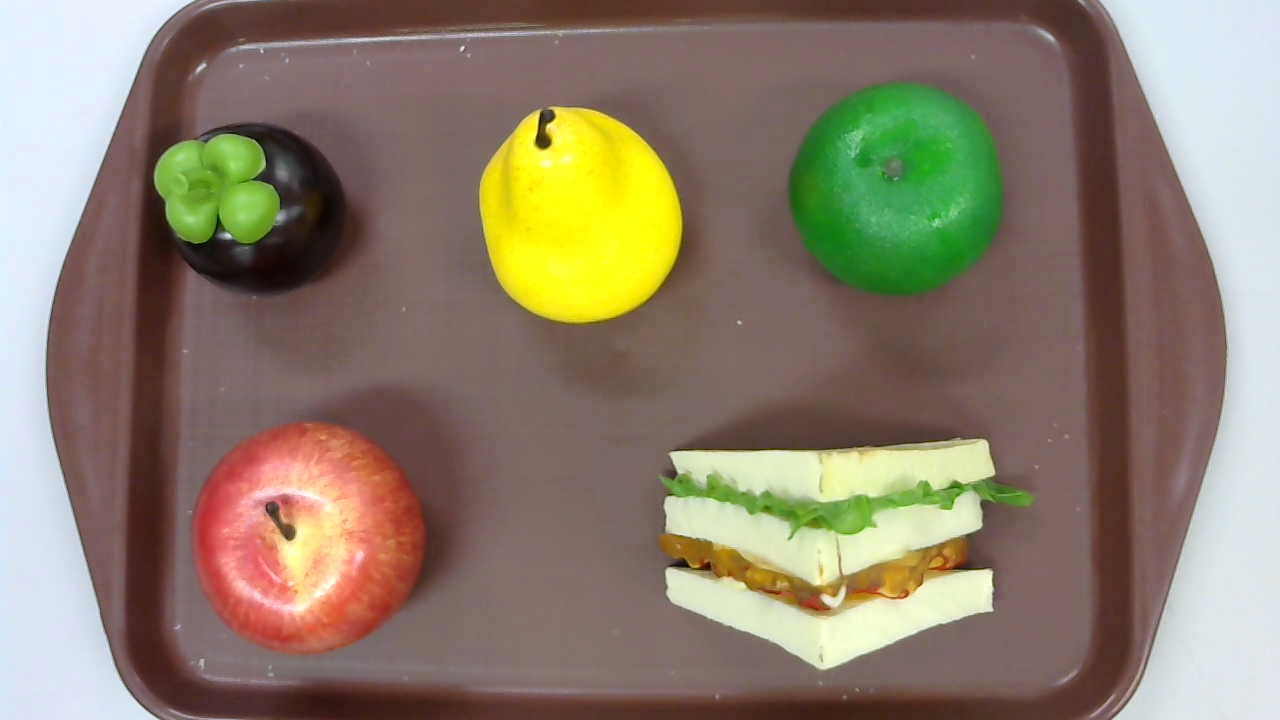green orange: (788, 82, 1004, 297)
mangosteen: (153, 122, 347, 297)
red apple: (190, 419, 428, 656)
sandwich: (656, 437, 1035, 671)
yellow pear: (478, 106, 685, 325)
